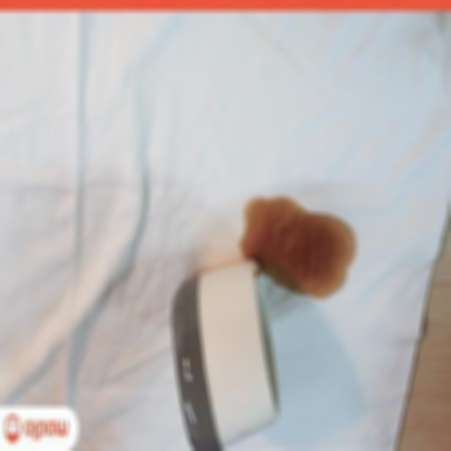coffee: (267, 218, 325, 284)
